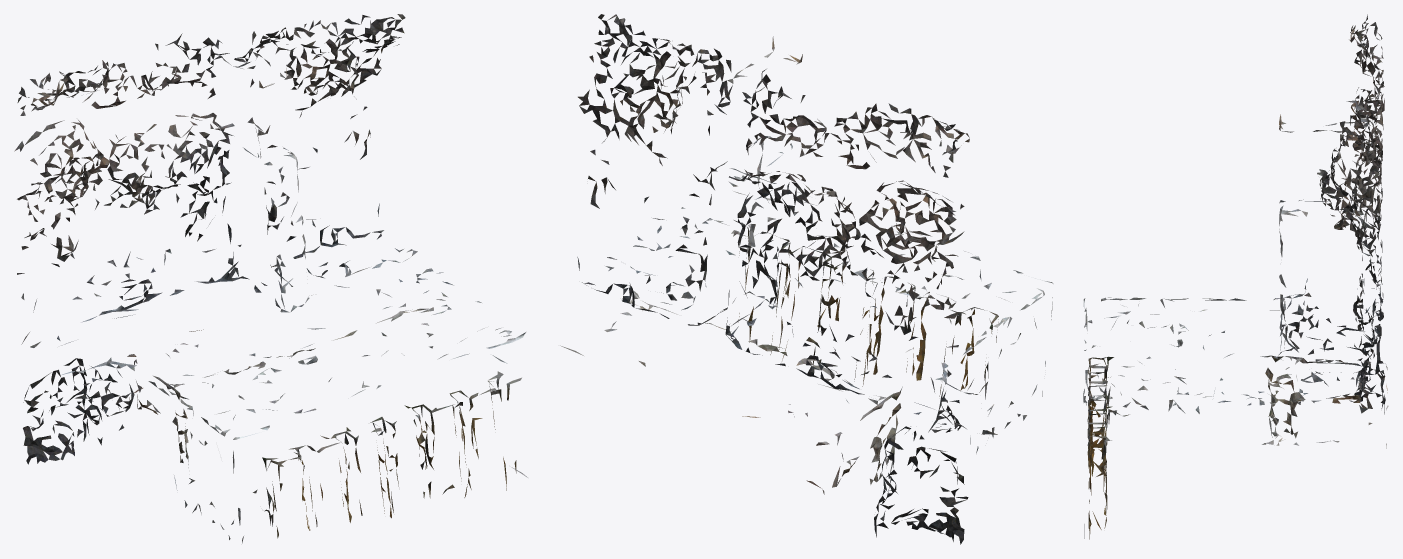
3 renders of one model, left to right at view 1: azimuth 30°, elevation 25°; view 2: azimuth 150°, elevation 25°; view 3: azimuth 270°, elevation 25°, orthographic. The views are drawn at different scales.
Size of the model in its own units: 6.76 by 7.14 by 5.14.
1 material, 1 textured.
